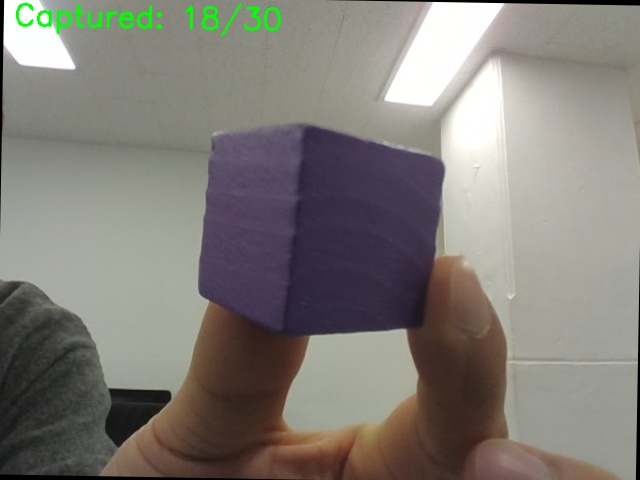Normal: (208, 109, 454, 328)
